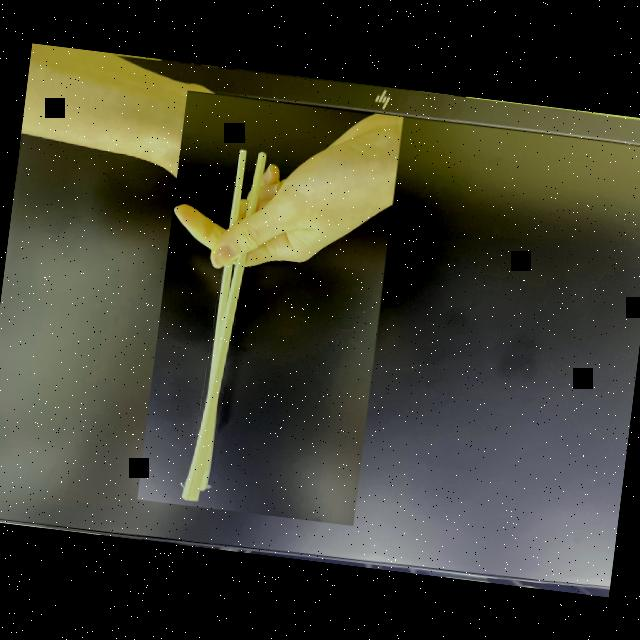stick: (136, 90, 402, 524)
